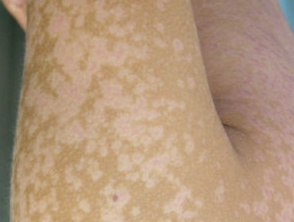SJS-TEN: (5, 0, 231, 221), (174, 0, 293, 221)
